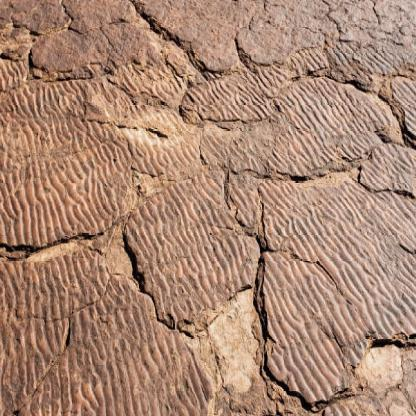Sedimentary_Sandstone: (117, 163, 252, 348), (198, 75, 396, 183), (258, 240, 376, 400)
